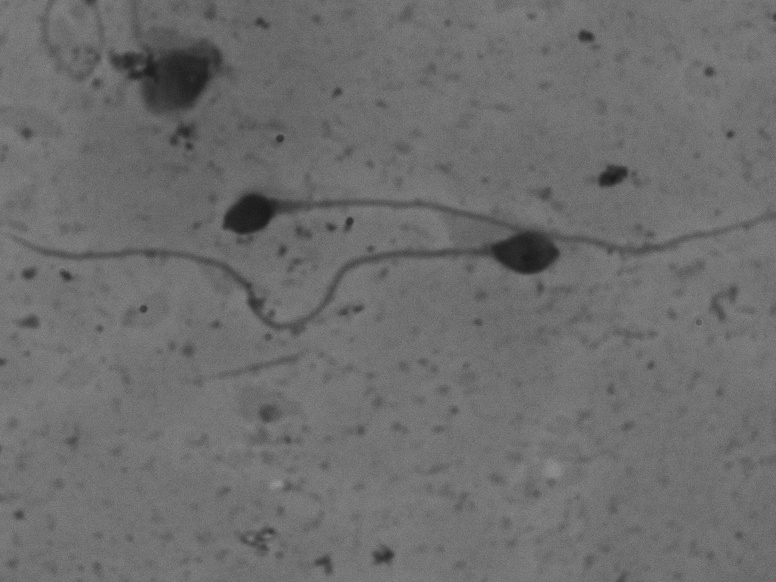Abnormal: (10, 209, 577, 343), (197, 171, 776, 269)
